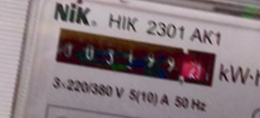0: (60, 38, 74, 57), (83, 40, 95, 60)
1: (125, 44, 135, 63)
3: (104, 45, 114, 65)
6: (186, 64, 197, 81)
9: (164, 54, 175, 73), (145, 49, 155, 67)
screen: (47, 22, 224, 93)
